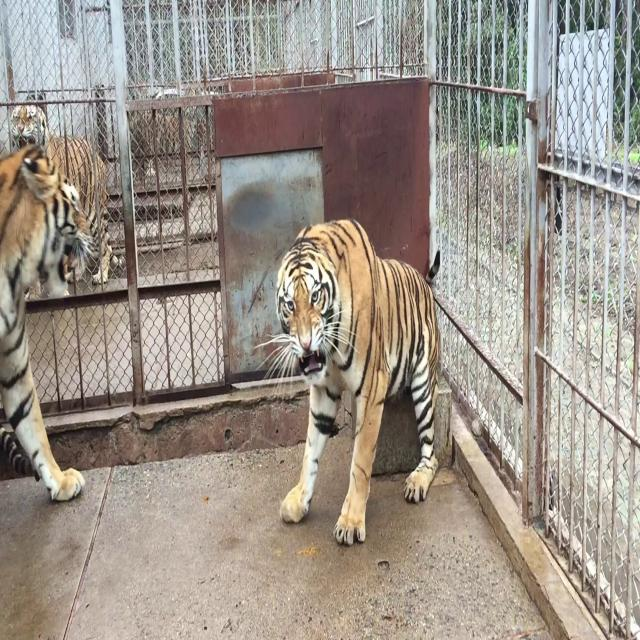Tiger: (236, 166, 469, 578), (0, 110, 149, 542), (11, 101, 121, 282), (126, 106, 192, 186)
